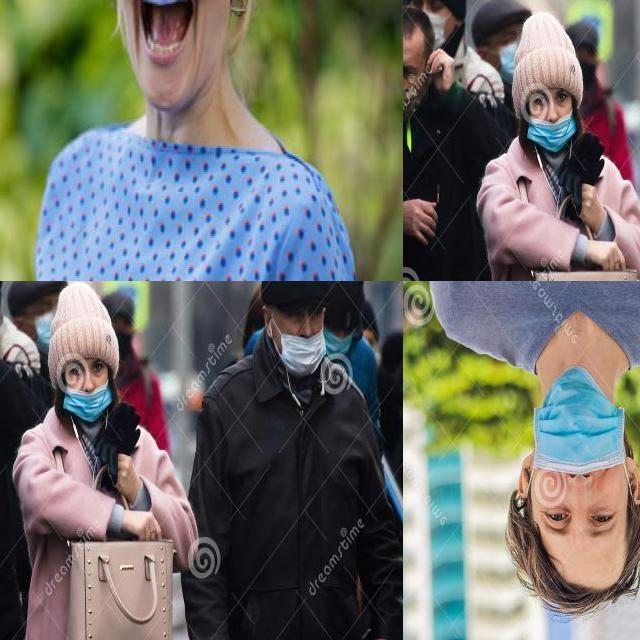hairnet: (529, 367, 629, 493), (272, 316, 327, 376), (59, 379, 114, 423), (526, 112, 578, 153)
